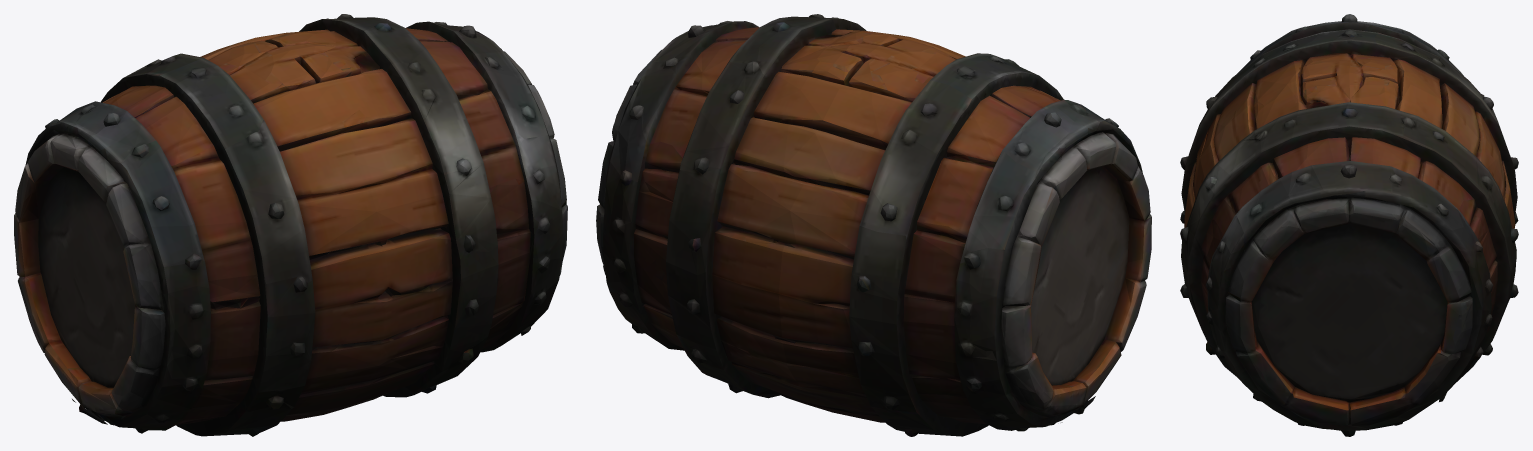
File: barrel.glb
The picture shows the model from 3 angles, left to right: view 1: azimuth 30°, elevation 25°; view 2: azimuth 150°, elevation 25°; view 3: azimuth 270°, elevation 25°; orthographic projection. The views are drawn at different scales.
Visible parts, largest first — view 1: world; view 2: world; view 3: world.
Boxes of the visible parts, bbox=[...] form: world: bbox=[14, 14, 567, 436]; world: bbox=[596, 14, 1151, 436]; world: bbox=[1180, 14, 1518, 436].
Bounding box in the file's own units: 0.9968 × 0.7986 × 0.7845.
1 material, 1 textured.
